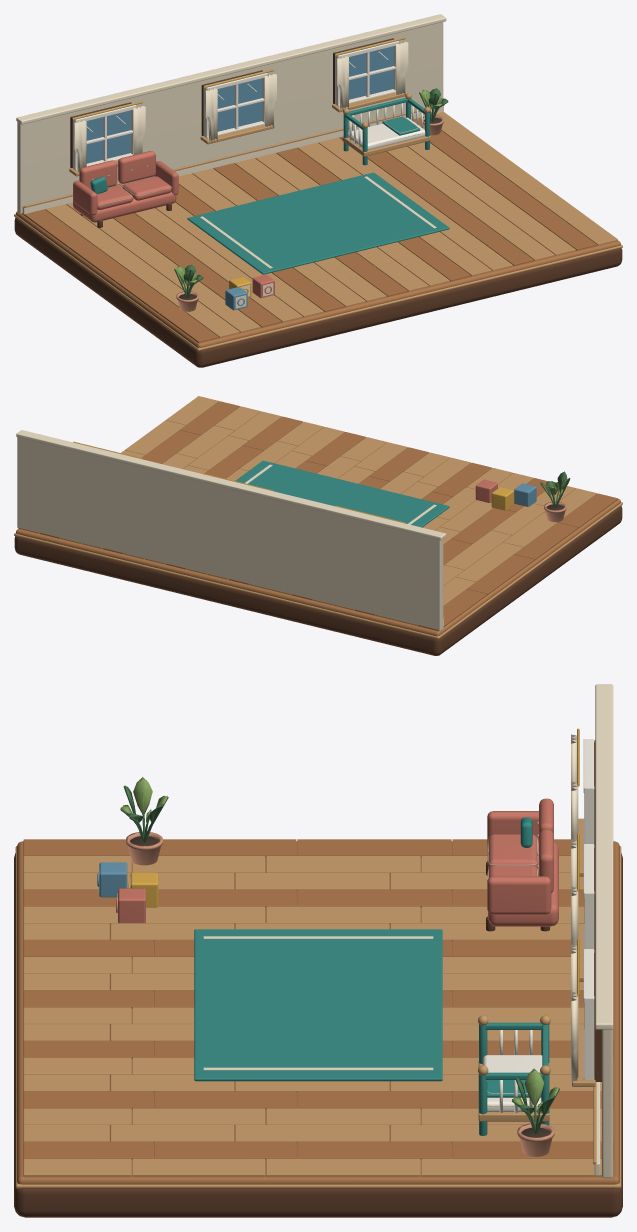
File: home.glb
The picture shows the model from 3 angles, top to bottom: view 1: azimuth 30°, elevation 25°; view 2: azimuth 150°, elevation 25°; view 3: azimuth 270°, elevation 25°; orthographic projection. The views are drawn at different scales.
Parts seen in each view (by area): view 1: Crafted_wood_light, Crafted_wood, Crafted_plaster, Crafted_teal, Crafted_edge, Crafted_cream, Crafted_coral, Crafted_blue, Crafted_white, Crafted_leaf, Crafted_ceramic, Crafted_brass; view 2: Crafted_plaster, Crafted_wood_light, Crafted_wood, Crafted_edge, Crafted_teal, Crafted_cream, Crafted_blue, Crafted_gold, Crafted_coral, Crafted_leaf; view 3: Crafted_wood_light, Crafted_wood, Crafted_teal, Crafted_edge, Crafted_cream, Crafted_coral, Crafted_white, Crafted_plaster, Crafted_ceramic, Crafted_lightleaf, Crafted_leaf, Crafted_blue (+1 smaller).
Part boxes in pixels (x1=…): Crafted_wood_light: x1=14, y1=92, x2=622, y2=351; Crafted_wood: x1=16, y1=117, x2=620, y2=347; Crafted_plaster: x1=17, y1=22, x2=443, y2=213; Crafted_teal: x1=90, y1=98, x2=449, y2=274; Crafted_edge: x1=14, y1=38, x2=622, y2=367; Crafted_cream: x1=16, y1=14, x2=446, y2=308; Crafted_coral: x1=73, y1=151, x2=274, y2=297; Crafted_blue: x1=86, y1=46, x2=393, y2=310; Crafted_white: x1=72, y1=39, x2=425, y2=170; Crafted_leaf: x1=174, y1=88, x2=448, y2=297; Crafted_ceramic: x1=176, y1=115, x2=443, y2=311; Crafted_brass: x1=73, y1=37, x2=405, y2=119; Crafted_plaster: x1=17, y1=437, x2=443, y2=631; Crafted_wood_light: x1=14, y1=396, x2=622, y2=639; Crafted_wood: x1=16, y1=401, x2=620, y2=636; Crafted_edge: x1=14, y1=505, x2=622, y2=655; Crafted_teal: x1=235, y1=460, x2=449, y2=527; Crafted_cream: x1=16, y1=430, x2=446, y2=626; Crafted_blue: x1=514, y1=483, x2=536, y2=506; Crafted_gold: x1=491, y1=487, x2=513, y2=510; Crafted_coral: x1=475, y1=479, x2=497, y2=502; Crafted_leaf: x1=540, y1=471, x2=570, y2=508; Crafted_wood_light: x1=15, y1=818, x2=621, y2=1188; Crafted_wood: x1=17, y1=839, x2=619, y2=1184; Crafted_teal: x1=194, y1=817, x2=549, y2=1135; Crafted_edge: x1=14, y1=740, x2=622, y2=1217; Crafted_cream: x1=99, y1=684, x2=613, y2=1175; Crafted_coral: x1=116, y1=798, x2=558, y2=926; Crafted_white: x1=483, y1=739, x2=594, y2=1112; Crafted_plaster: x1=602, y1=1029, x2=612, y2=1178; Crafted_ceramic: x1=126, y1=832, x2=554, y2=1156; Crafted_lightleaf: x1=120, y1=777, x2=559, y2=1115; Crafted_leaf: x1=120, y1=778, x2=559, y2=1133; Crafted_blue: x1=97, y1=862, x2=127, y2=897.
Bounding box in the file's own units: 13 × 3.49 × 9.8.
